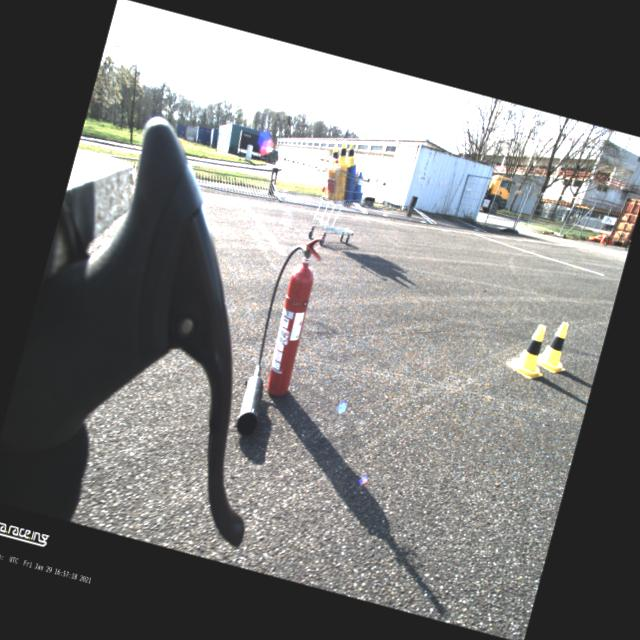blue_cone: (353, 170, 367, 193)
yellow_cone: (504, 318, 554, 381), (534, 318, 576, 375), (336, 142, 352, 169), (344, 144, 360, 168), (328, 144, 342, 170)
